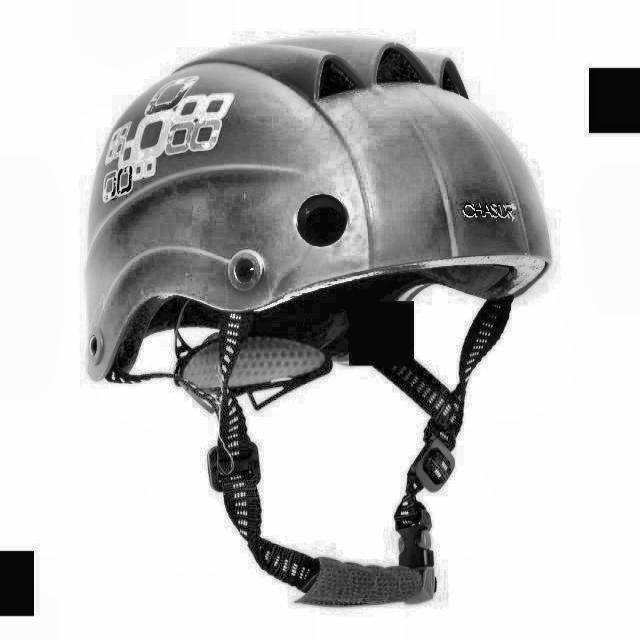Helmet: (89, 36, 557, 633)
